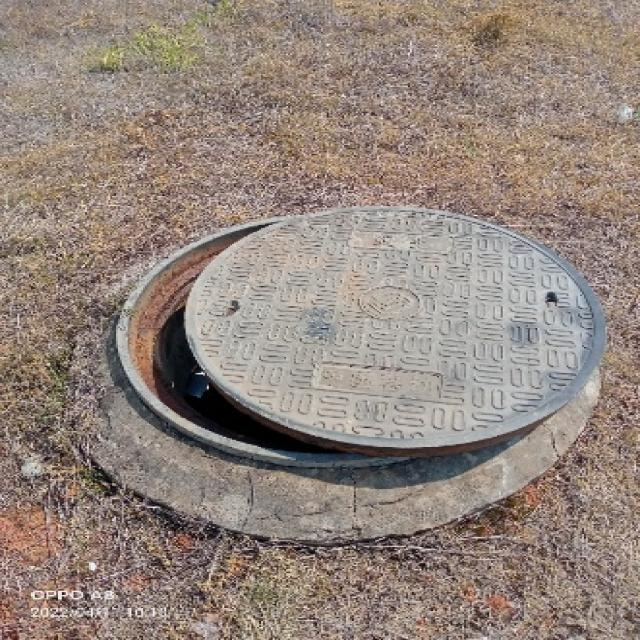Lose: (94, 200, 621, 508)
